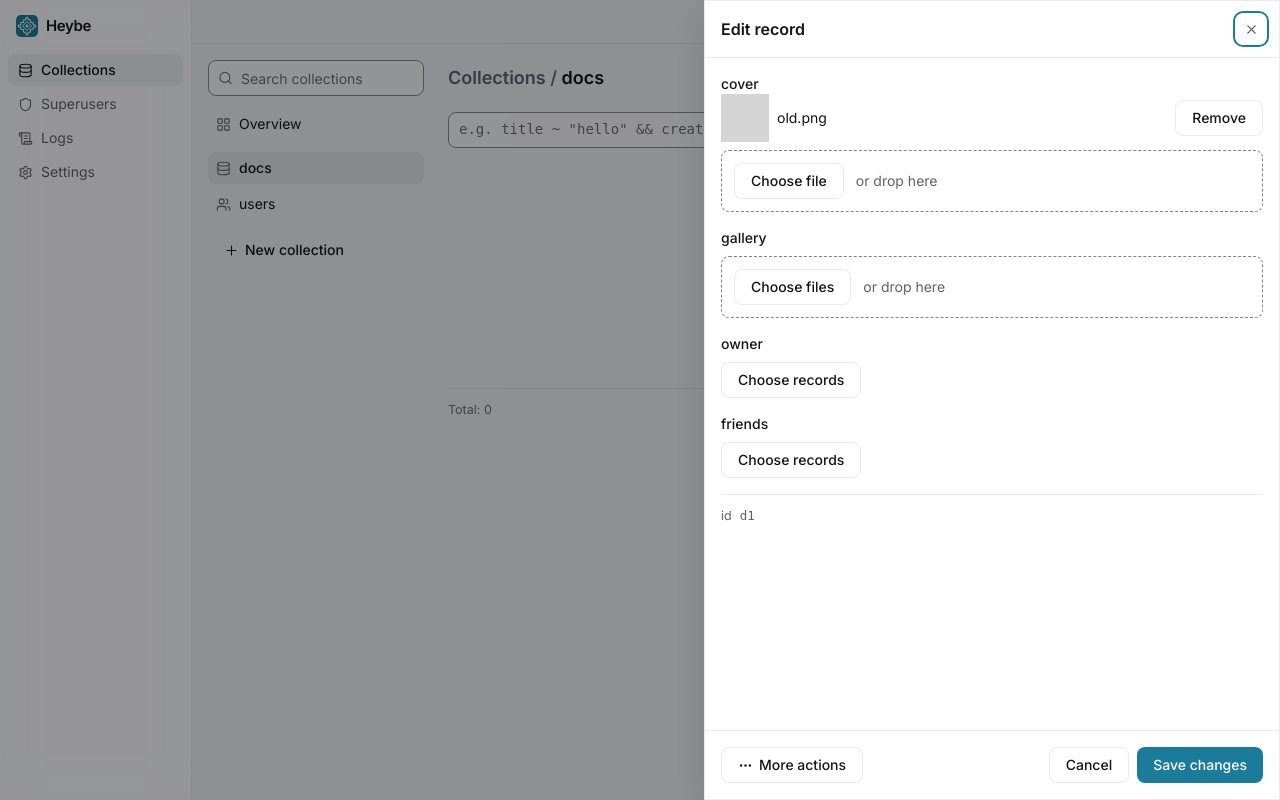
removing the single stored file sends cover-
The image size is (1280, 800).
Expected: the dialog is shown, [704,0,1279,799]
Click the button with aria-label "Remove old.png" at (1219, 118), box [1175,100,1263,136]
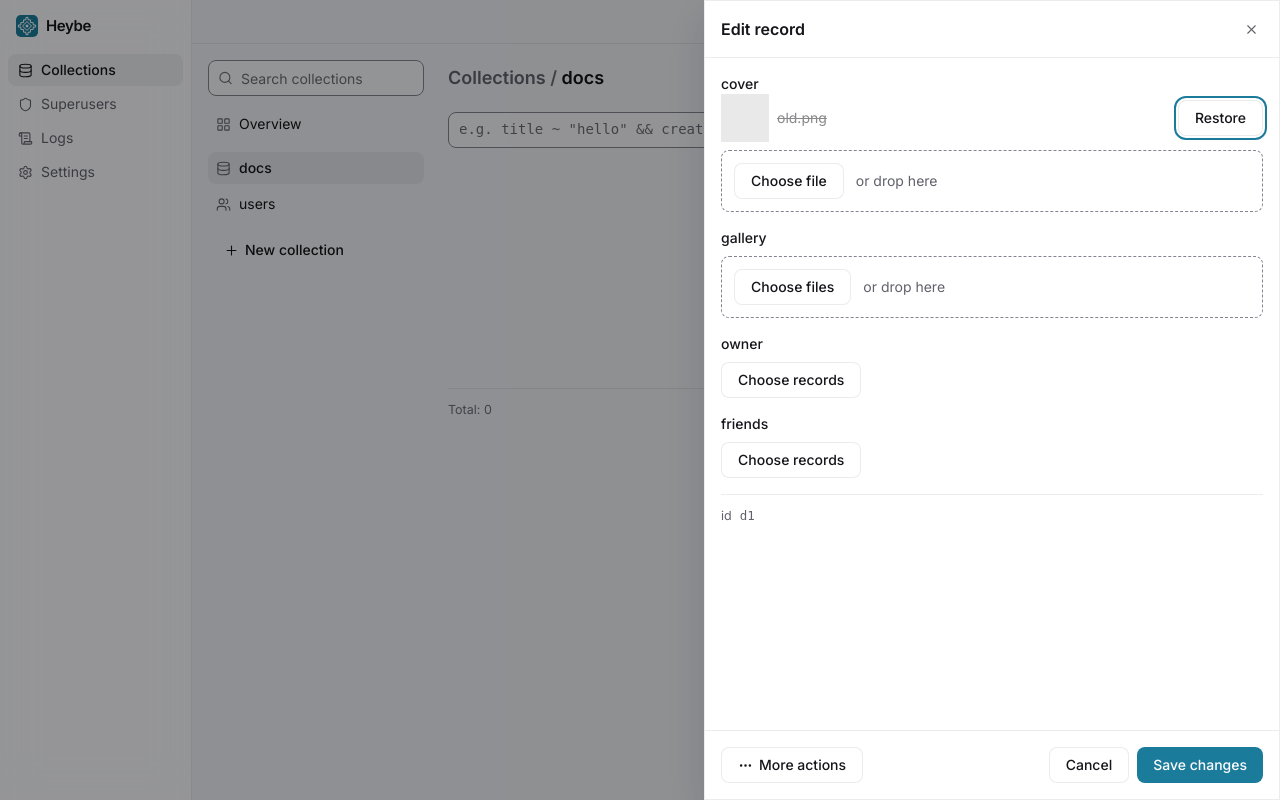
Click the button "Save changes" at (1200, 765), box [1137,747,1263,783]
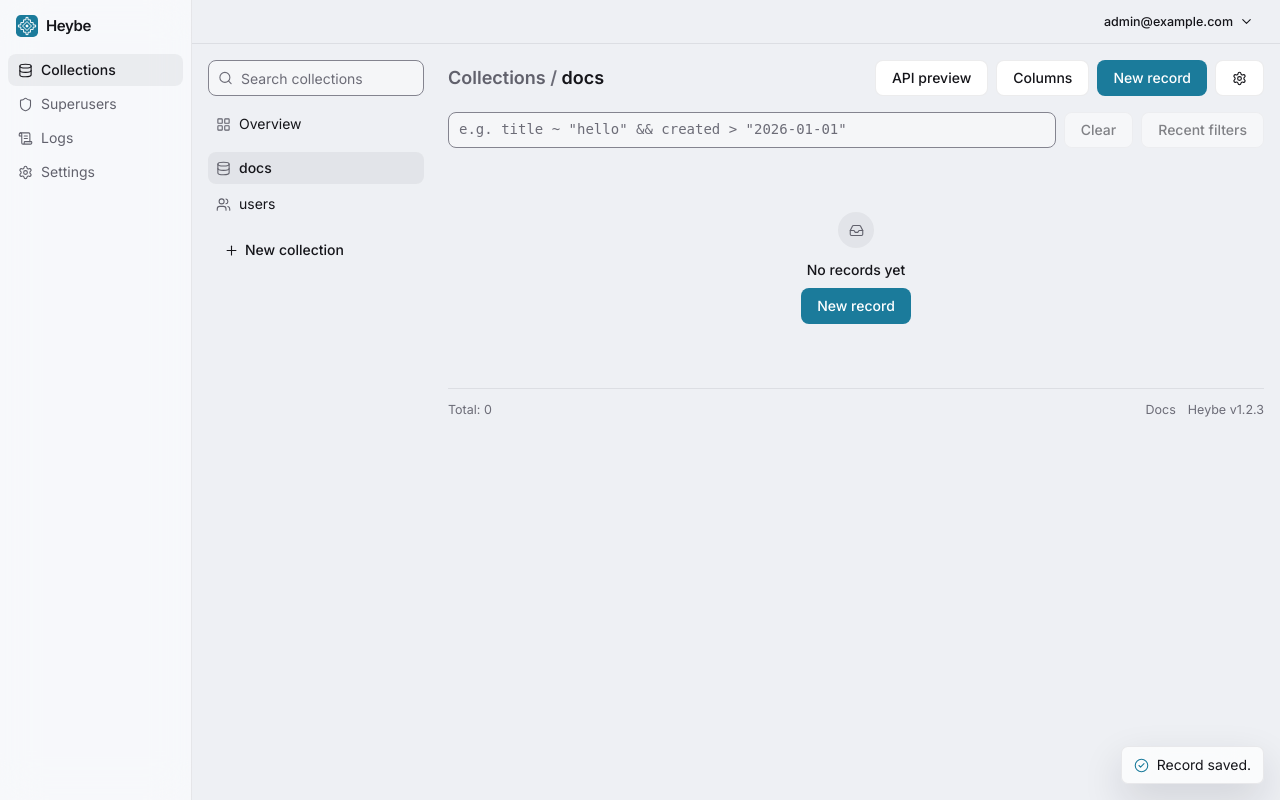
Expected: the text "Record saved." is shown, [1121,746,1264,784]
